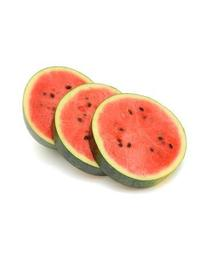watermelon: (21, 66, 190, 190)
